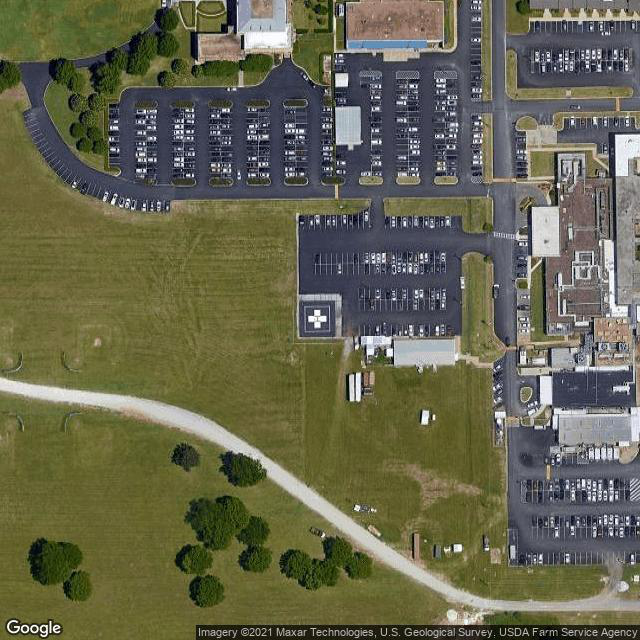Helipad: (300, 301, 335, 337)
